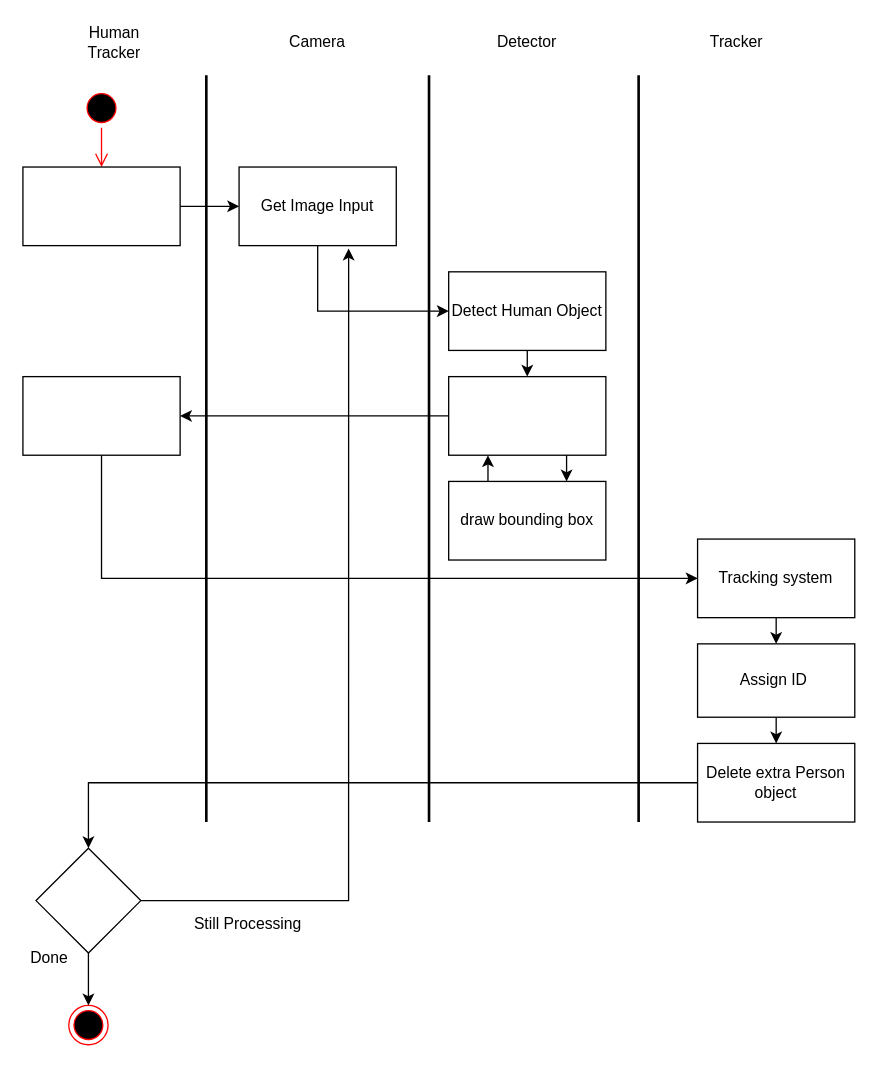
The diagram is 878 pixels wide and 1068 high, and some of its shapes have lost their labels. The centre of each missing label's shape, as x and y in pixels:
"Add the x and y coordinates to the object" belongs at point 101,415.
"Filter False positives" belongs at point 526,415.
"Initialize/Assume Necessary Parameter" belongs at point 101,206.
